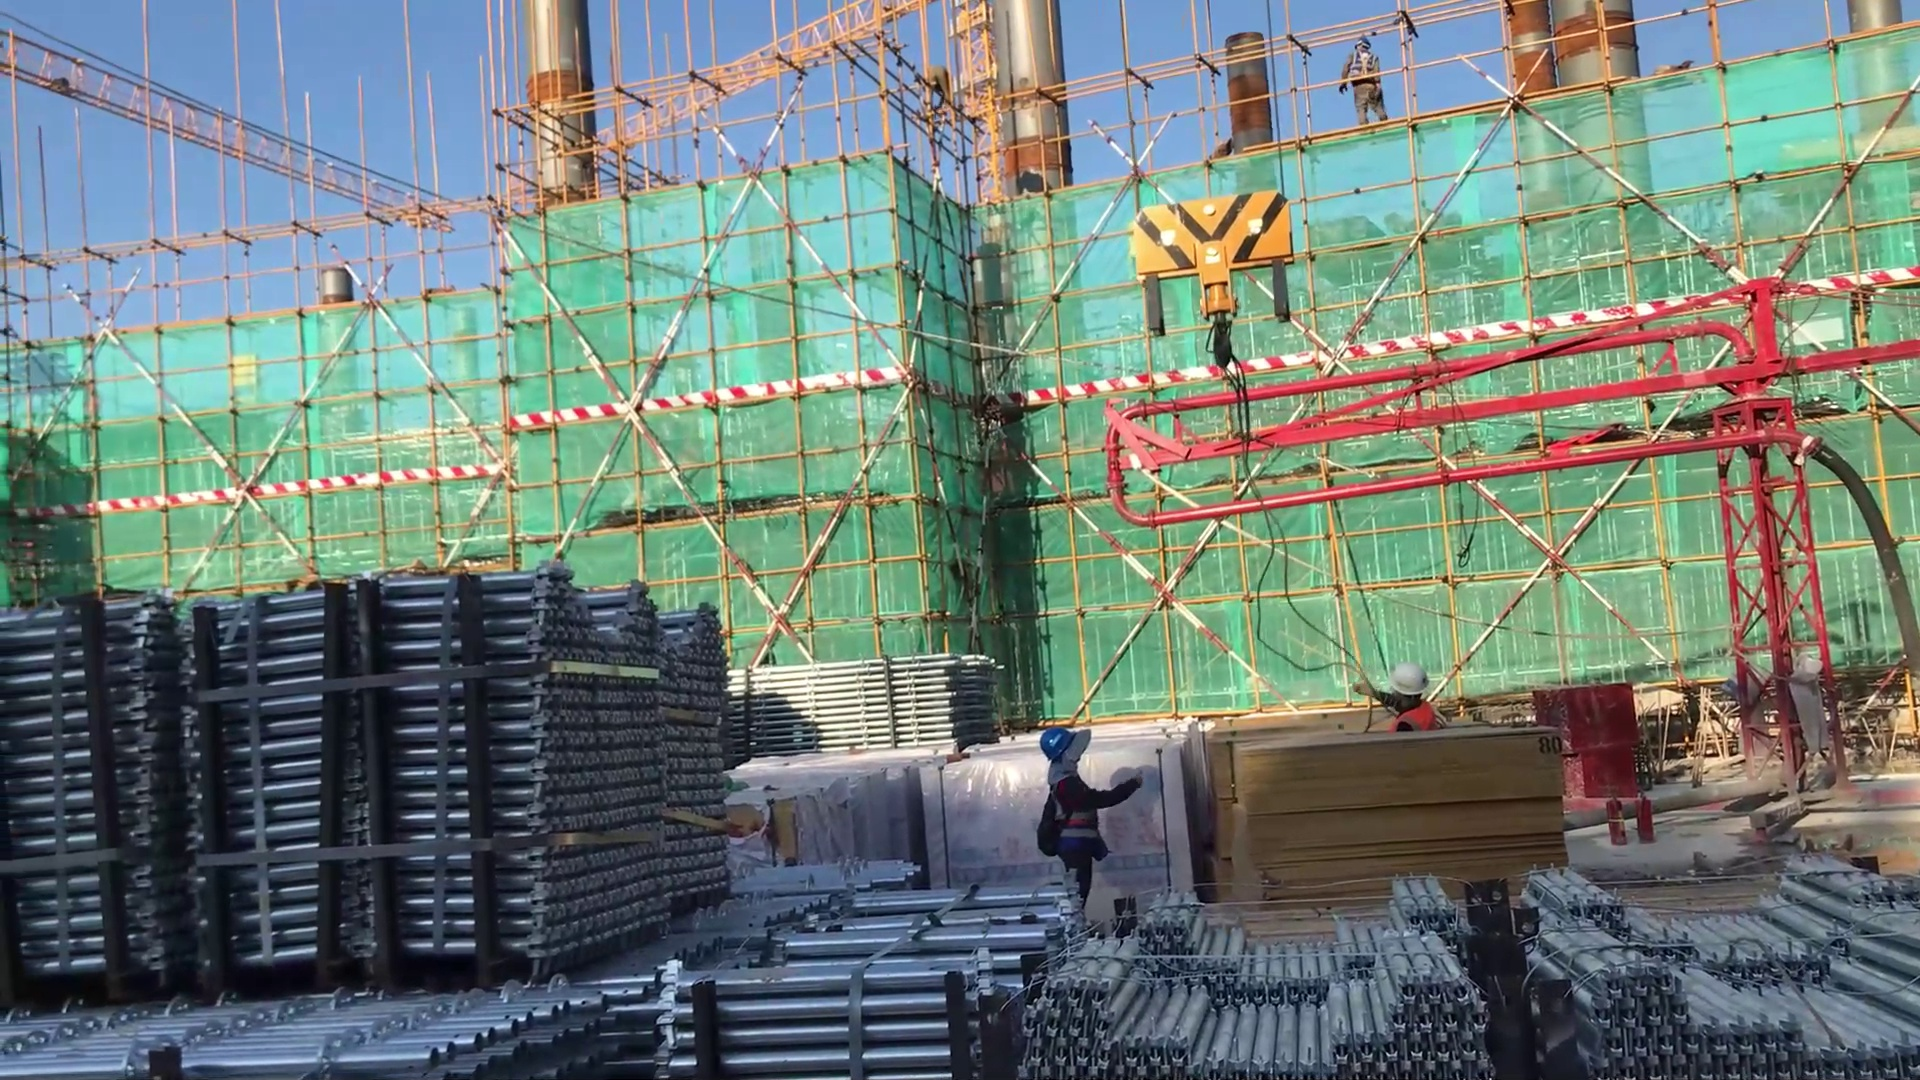board: (1190, 727, 1573, 918)
helmet: (1381, 666, 1436, 704), (1036, 726, 1083, 766), (1351, 33, 1373, 55)
hook: (1108, 174, 1320, 414)
person: (1033, 715, 1149, 928), (1352, 653, 1444, 752), (1338, 31, 1393, 134)
scaffold: (1, 537, 738, 1007), (1020, 855, 1458, 1080), (1, 934, 652, 1077), (658, 855, 1077, 1076), (1497, 869, 1920, 1072), (709, 660, 1029, 751)
vest: (1039, 773, 1109, 866), (1385, 705, 1441, 739), (1347, 47, 1379, 85)
